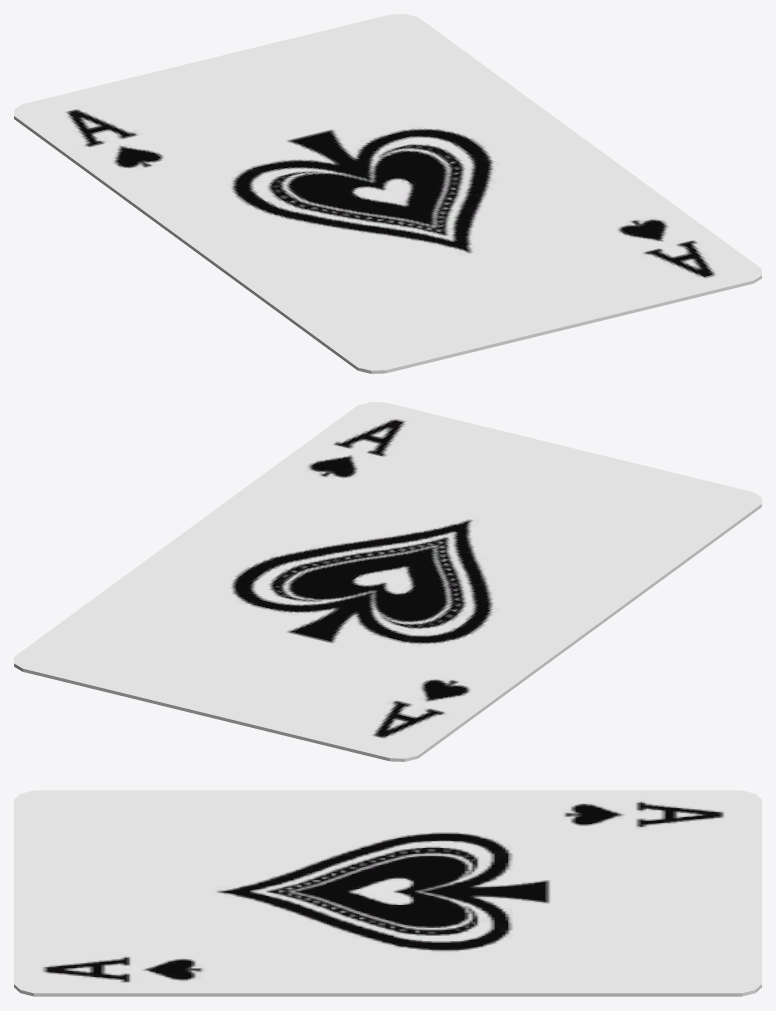
The model's file is spade1.glb.
3 views of the same model, one above another, from view 1: azimuth 30°, elevation 25°; view 2: azimuth 150°, elevation 25°; view 3: azimuth 270°, elevation 25° (orthographic). The views are drawn at different scales.
Parts seen in each view (by area): view 1: card.001; view 2: card.001; view 3: card.001.
Part boxes in pixels (x1,y1,x2,y2): card.001: (14, 14, 761, 373); card.001: (14, 402, 761, 761); card.001: (14, 790, 761, 996).
Size of the model in its own units: 0.057 by 0.00043 by 0.0887.
Materials: 2 (2 with a texture image).
